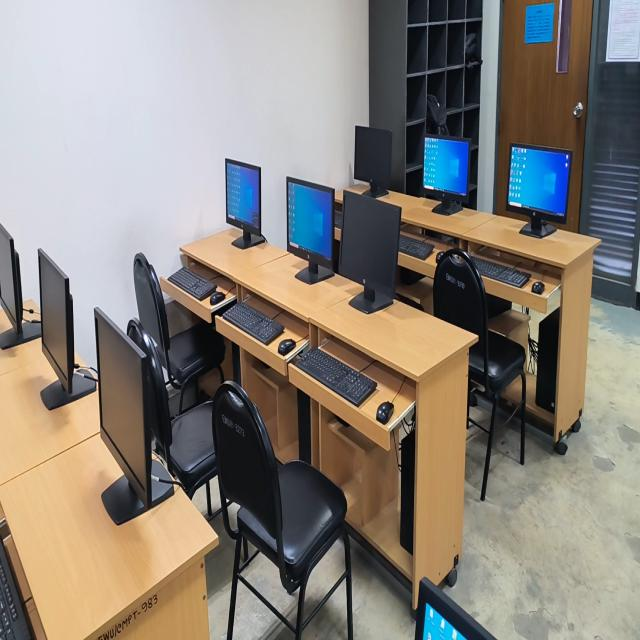Chair: (212, 381, 353, 639), (433, 248, 525, 500), (127, 319, 218, 517), (134, 253, 225, 387)
Cpu: (536, 308, 560, 413), (400, 430, 415, 554), (296, 389, 311, 463), (231, 343, 241, 384)
Keyboard: (294, 347, 377, 407), (0, 539, 31, 639), (222, 301, 284, 344), (471, 256, 531, 287), (168, 267, 217, 300), (399, 235, 434, 260)
Monitor: (95, 308, 174, 524), (38, 249, 96, 409), (339, 193, 401, 313), (508, 143, 571, 236), (287, 177, 334, 284), (0, 224, 40, 348), (423, 135, 469, 215), (225, 159, 263, 248), (355, 126, 392, 198), (423, 603, 466, 639)
Mouse: (376, 401, 394, 424), (278, 339, 296, 356), (210, 290, 225, 305), (531, 281, 545, 294)
